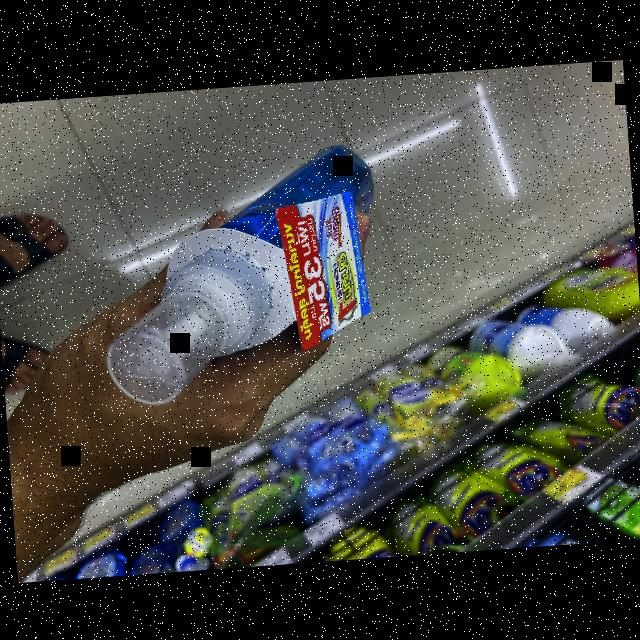chemical_plastic_bottle: (88, 137, 385, 406)
